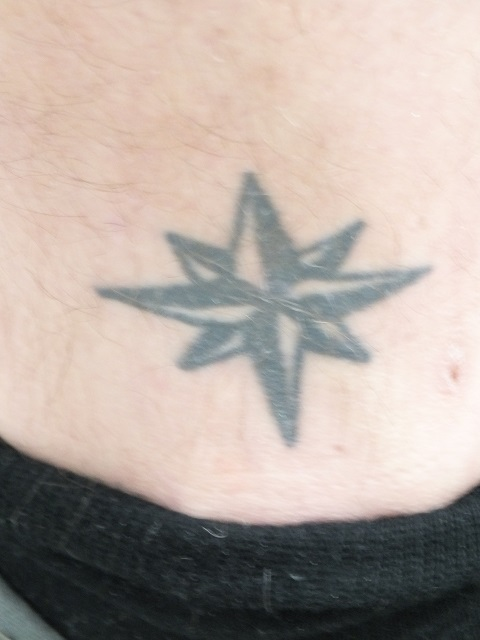tatu4_zvezda: (97, 174, 435, 448)
